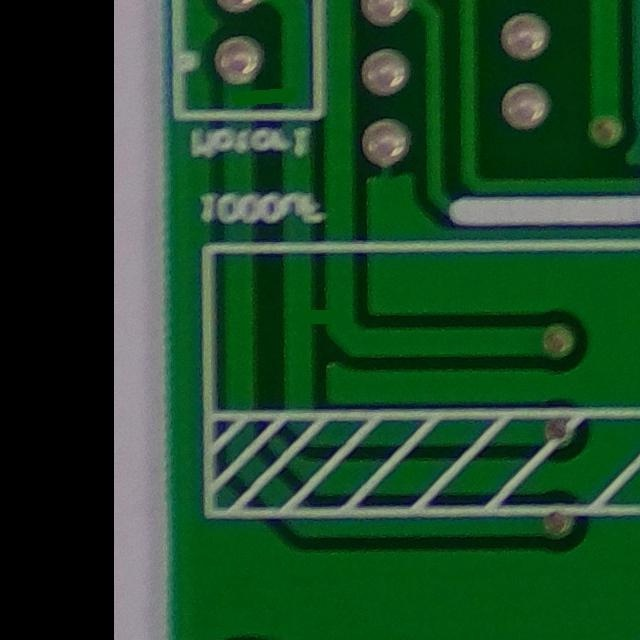short: (281, 288, 359, 353)
